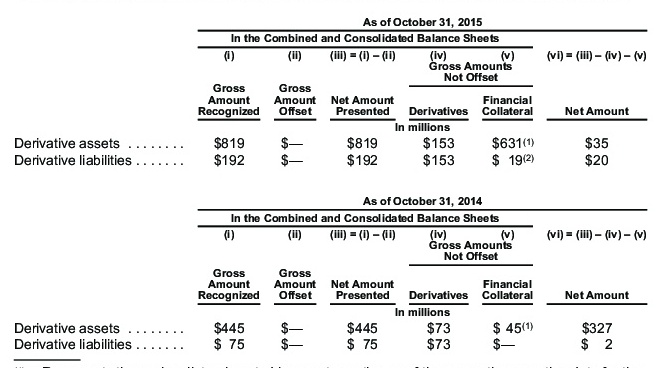table: (0, 0, 668, 368)
